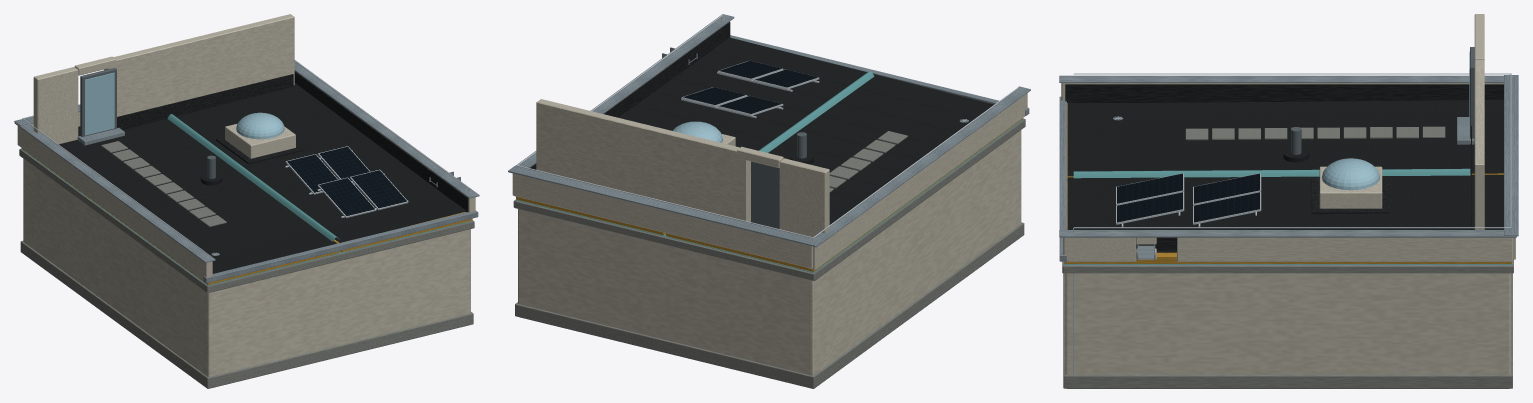
The model's file is uebersicht.glb.
3 views of the same model, side by side, from view 1: azimuth 30°, elevation 25°; view 2: azimuth 150°, elevation 25°; view 3: azimuth 270°, elevation 25° (orthographic). The views are drawn at different scales.
Parts seen in each view (by area): view 1: Putzkörper Flachdach, Bauteil_f01_deckung, Bauteil_f07_tragwerk, Bauteil_g02_tragwerk, Bauteil_f05_deckung, Bauteil_a01_deckung.001, Bauteil_f05_tragwerk, Wandanschluss Hochführung, Bauteil_f05_deckung.001, Bauteil_f01_deckung.001, Freier Dachrand Metallprofil, Bauteil_a03_deckung (+11 smaller); view 2: Putzkörper Flachdach, Bauteil_f01_deckung, Bauteil_f07_tragwerk, Bauteil_f05_tragwerk, Bauteil_g02_tragwerk, Bauteil_f05_deckung, Bauteil_a01_deckung.001, Bauteil_f05_deckung.001, Türrahmen Austritt, Bauteil_f01_deckung.001, Bauteil_a03_deckung, Bauteil_g03_daemmung (+6 smaller); view 3: Putzkörper Flachdach, Bauteil_f01_deckung, Bauteil_f05_tragwerk, Bauteil_g02_tragwerk, Bauteil_f05_deckung, Bauteil_f05_deckung.001, Bauteil_a01_deckung.001, Bauteil_a03_deckung, Bauteil_f07_tragwerk, Bewegungsfuge flexible Überbrückung, Bauteil_a04_deckung, Bauteil_f01_deckung.001 (+8 smaller).
Part boxes in pixels (x1=…): Putzkörper Flachdach: x1=23, y1=159, x2=470, y2=376; Bauteil_f01_deckung: x1=59, y1=83, x2=466, y2=273; Bauteil_f07_tragwerk: x1=33, y1=14, x2=294, y2=144; Bauteil_g02_tragwerk: x1=19, y1=149, x2=474, y2=388; Bauteil_f05_deckung: x1=14, y1=60, x2=479, y2=262; Bauteil_a01_deckung.001: x1=287, y1=146, x2=407, y2=216; Bauteil_f05_tragwerk: x1=17, y1=74, x2=475, y2=280; Wandanschluss Hochführung: x1=117, y1=74, x2=293, y2=129; Bauteil_f05_deckung.001: x1=294, y1=71, x2=468, y2=211; Bauteil_f01_deckung.001: x1=61, y1=85, x2=450, y2=259; Freier Dachrand Metallprofil: x1=203, y1=210, x2=478, y2=283; Bauteil_a03_deckung: x1=101, y1=141, x2=226, y2=226; Putzkörper Flachdach: x1=518, y1=130, x2=1021, y2=375; Bauteil_f01_deckung: x1=618, y1=37, x2=993, y2=224; Bauteil_f07_tragwerk: x1=536, y1=99, x2=829, y2=237; Bauteil_f05_tragwerk: x1=512, y1=22, x2=1027, y2=269; Bauteil_g02_tragwerk: x1=513, y1=119, x2=1025, y2=388; Bauteil_f05_deckung: x1=508, y1=14, x2=1030, y2=247; Bauteil_a01_deckung.001: x1=683, y1=60, x2=817, y2=113; Bauteil_f05_deckung.001: x1=530, y1=22, x2=730, y2=169; Türrahmen Austritt: x1=751, y1=161, x2=779, y2=228; Bauteil_f01_deckung.001: x1=635, y1=50, x2=976, y2=213; Bauteil_a03_deckung: x1=829, y1=131, x2=907, y2=192; Bauteil_g03_daemmung: x1=516, y1=118, x2=1023, y2=271; Putzkörper Flachdach: x1=1065, y1=273, x2=1510, y2=388; Bauteil_f01_deckung: x1=1067, y1=100, x2=1503, y2=252; Bauteil_f05_tragwerk: x1=1061, y1=83, x2=1515, y2=261; Bauteil_g02_tragwerk: x1=1062, y1=259, x2=1513, y2=388; Bauteil_f05_deckung: x1=1059, y1=75, x2=1518, y2=237; Bauteil_f05_deckung.001: x1=1065, y1=84, x2=1503, y2=252; Bauteil_a01_deckung.001: x1=1117, y1=173, x2=1259, y2=222; Bauteil_a03_deckung: x1=1185, y1=126, x2=1445, y2=140; Bauteil_f07_tragwerk: x1=1474, y1=14, x2=1484, y2=229; Bewegungsfuge flexible Überbrückung: x1=1073, y1=168, x2=1470, y2=178; Bauteil_a04_deckung: x1=1073, y1=73, x2=1511, y2=228; Bauteil_f01_deckung.001: x1=1105, y1=100, x2=1470, y2=229.
Size of the model in its own units: 9.86 by 6.08 by 11.34.
10 materials, 6 textured.
